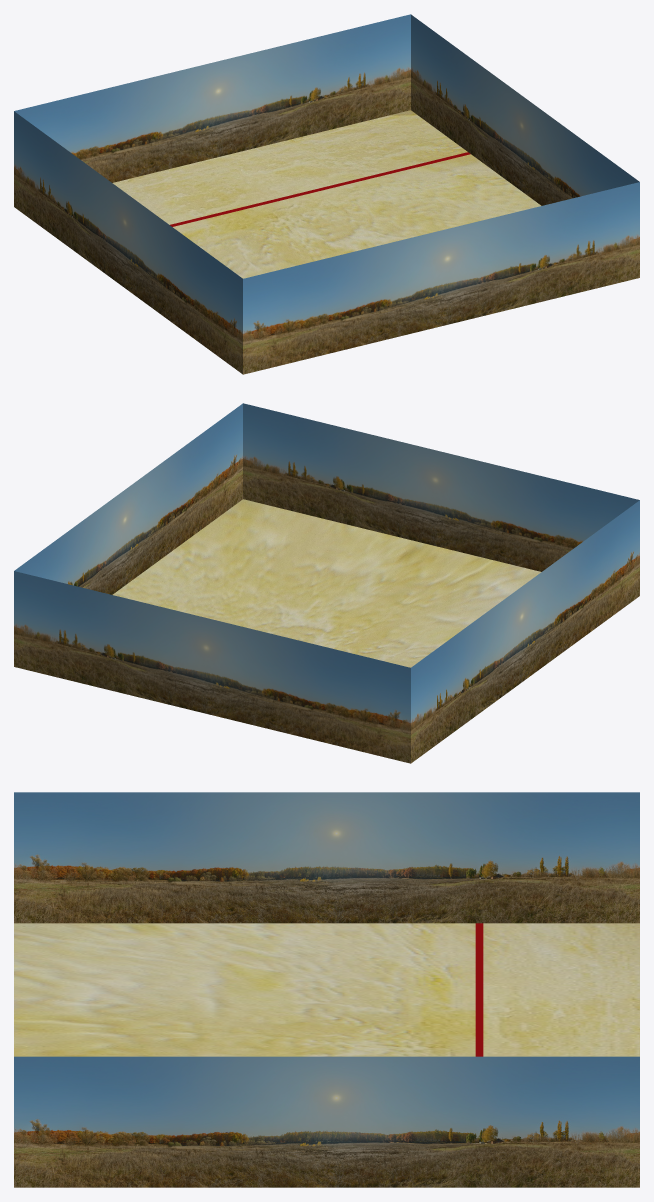
The model's file is RedLightGreenLight_Environment.glb.
The picture shows the model from 3 angles, top to bottom: view 1: azimuth 30°, elevation 25°; view 2: azimuth 150°, elevation 25°; view 3: azimuth 270°, elevation 25°; orthographic projection. The views are drawn at different scales.
Parts seen in each view (by area): view 1: environment; view 2: environment; view 3: environment.
Part boxes in pixels (bbox=[...]): environment: bbox=[14, 14, 639, 374]; environment: bbox=[14, 403, 639, 763]; environment: bbox=[14, 792, 639, 1187].
Size of what is drawn, in the model's own units: 112 by 25.86 by 112.
3 materials, 2 textured.
